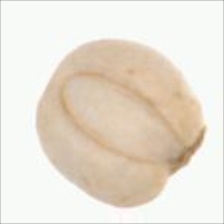L5: (59, 70, 180, 165), (164, 124, 208, 185)
L6: (35, 36, 208, 210)
